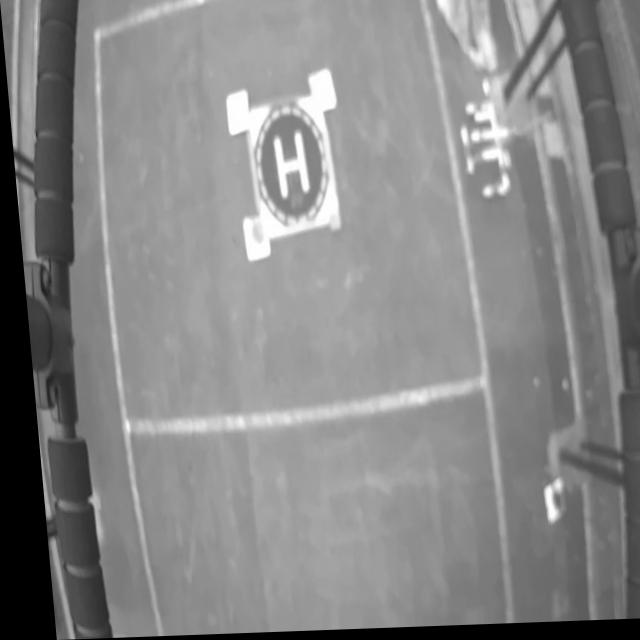Helipad: (270, 134, 307, 202)
